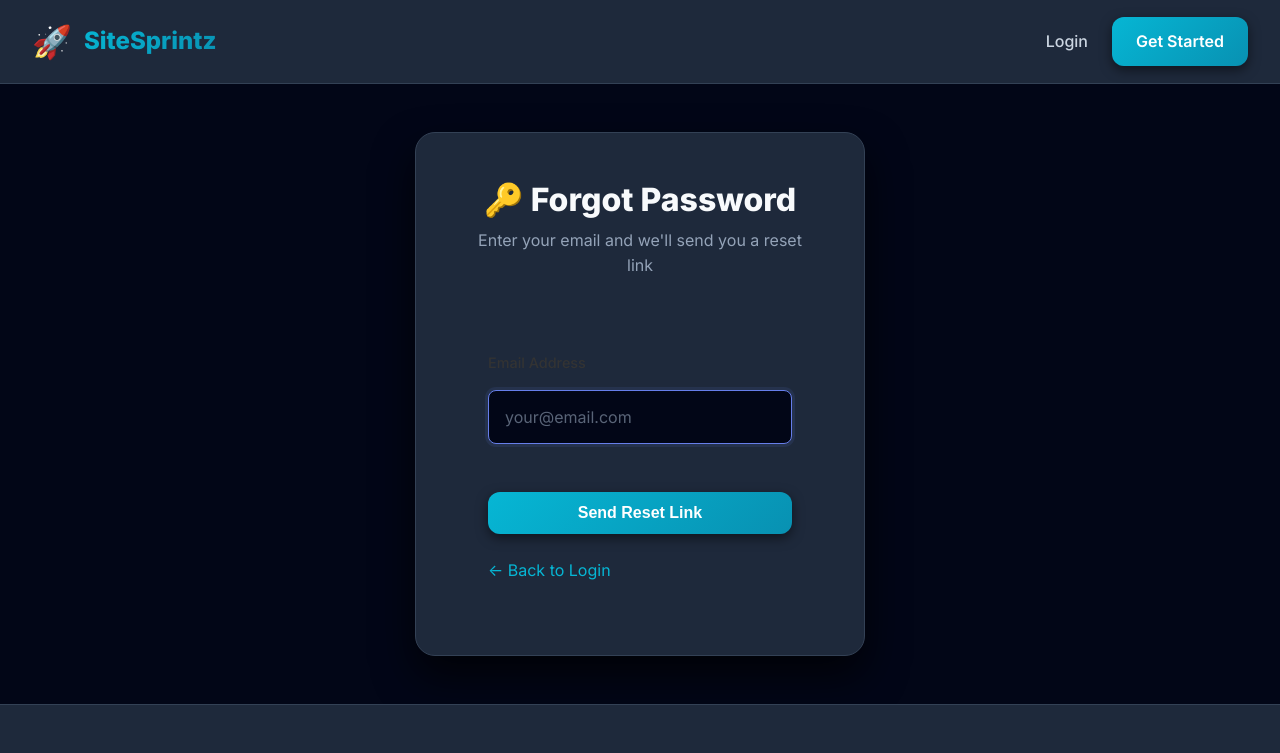
Test case: ForgotPassword Component › should show success message after sending reset email
Type "test@example.com" into the field labelled "Email Address".
click(640, 417); type("test@example.com")  # box top-left (488, 390), bottom-right (792, 444)
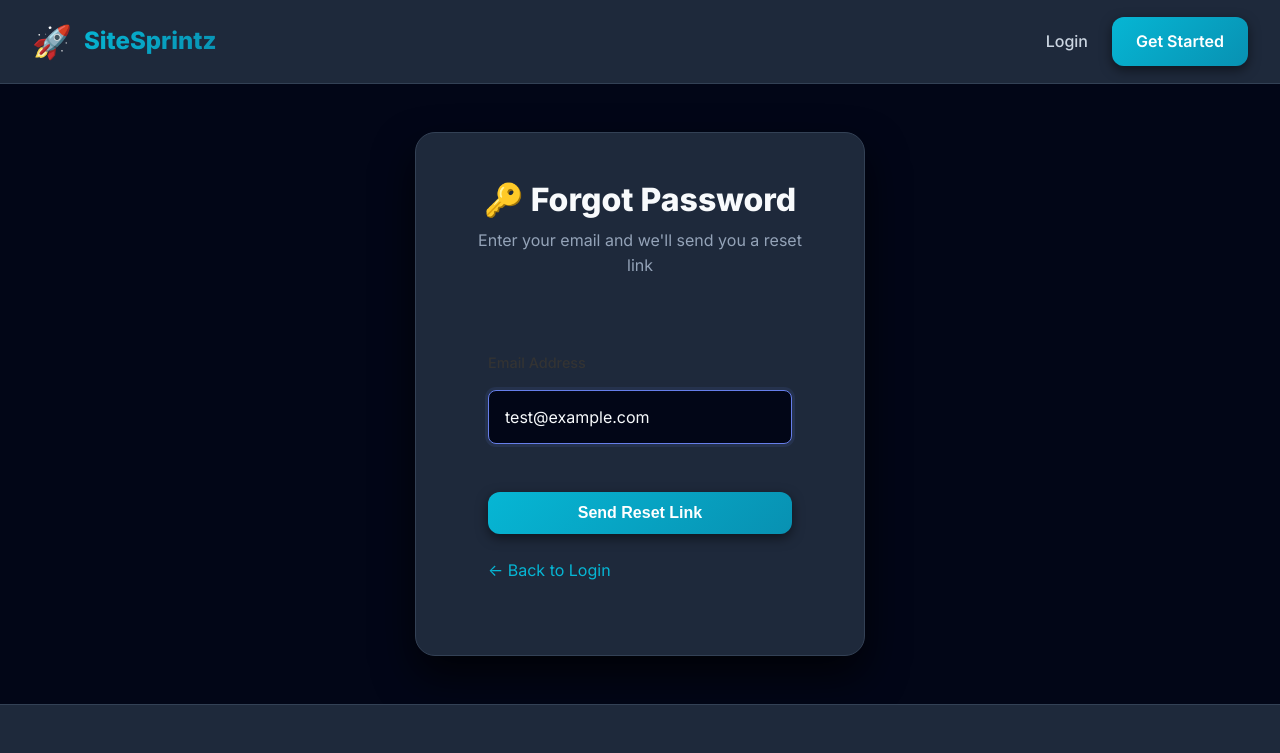
Click the button "Send Reset Link".
click(640, 513)  # box top-left (488, 492), bottom-right (792, 534)
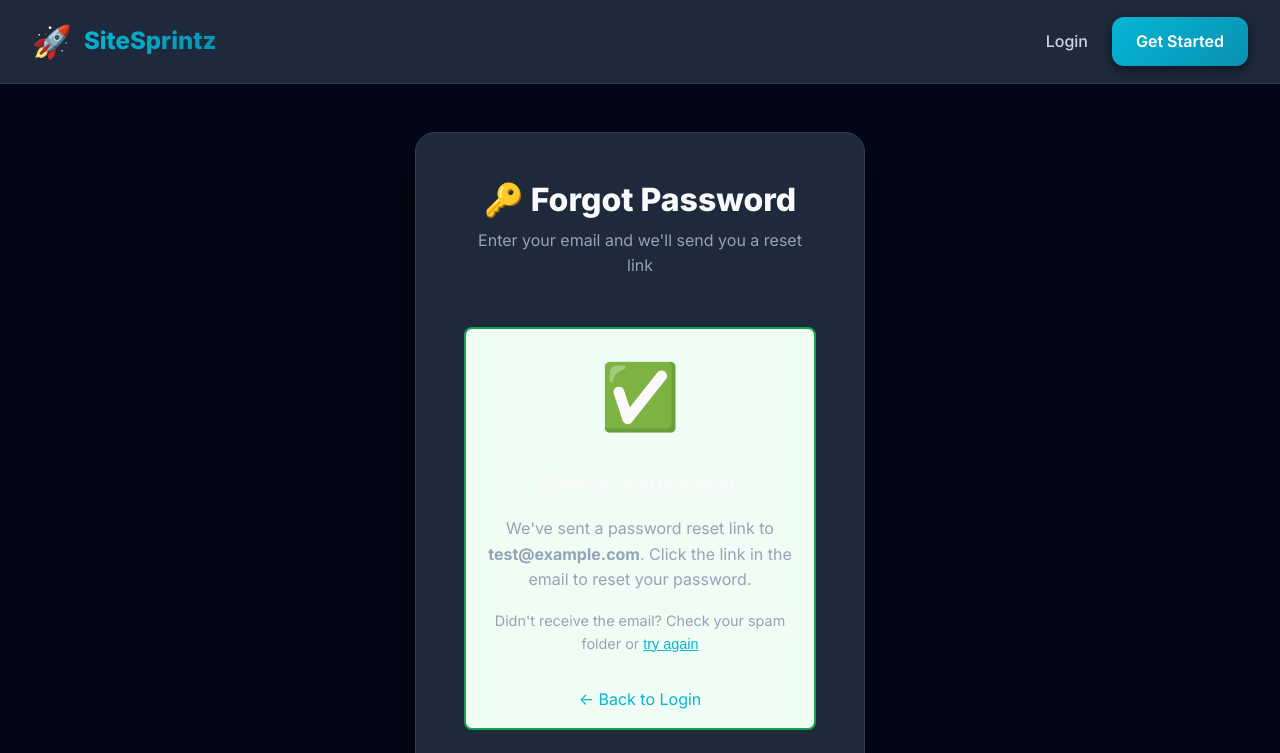
Expected: the text "test@example.com" is shown, top-left (488, 544), bottom-right (640, 564)
